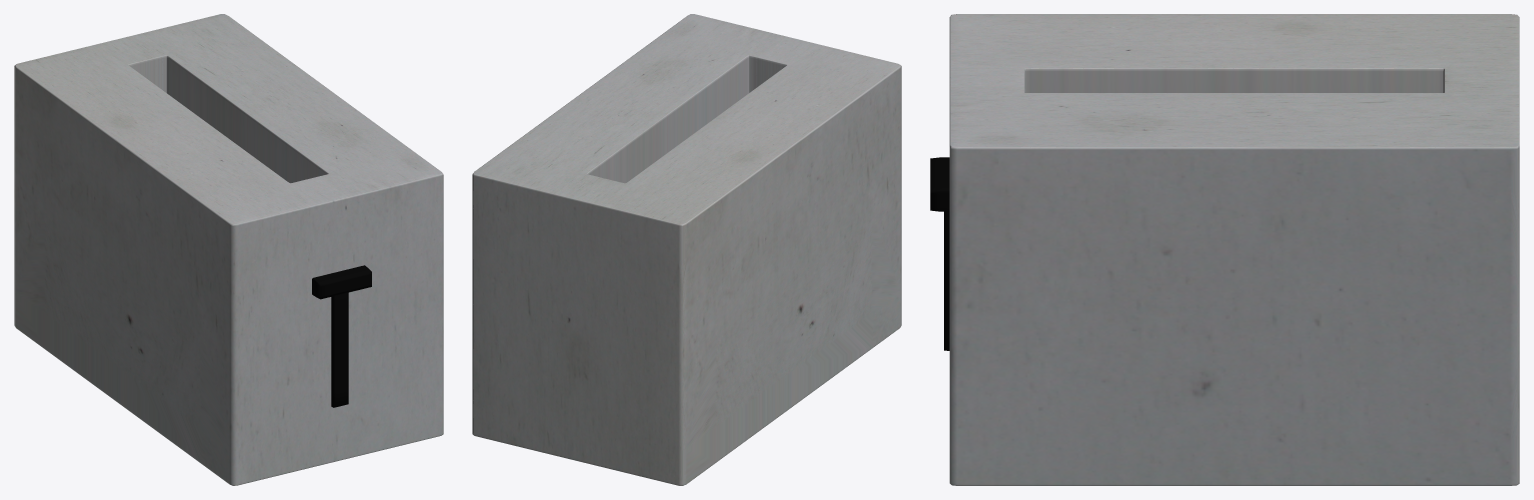
Rendered from tostadora.fbx.
3 renders of one model, left to right at view 1: azimuth 30°, elevation 25°; view 2: azimuth 150°, elevation 25°; view 3: azimuth 270°, elevation 25°, orthographic. The views are drawn at different scales.
Parts seen in each view (by area): view 1: pCube7, pCube9, pCube8; view 2: pCube7; view 3: pCube7, pCube8, pCube9.
Part boxes in pixels (x1,y1,x2,y2): pCube7: [14, 14, 443, 485]; pCube9: [331, 292, 348, 407]; pCube8: [312, 265, 371, 299]; pCube7: [472, 14, 901, 485]; pCube7: [949, 14, 1519, 485]; pCube8: [930, 157, 949, 211]; pCube9: [944, 211, 949, 350].
Bounding box in the file's own units: 3.96 × 4.65 × 7.34.
